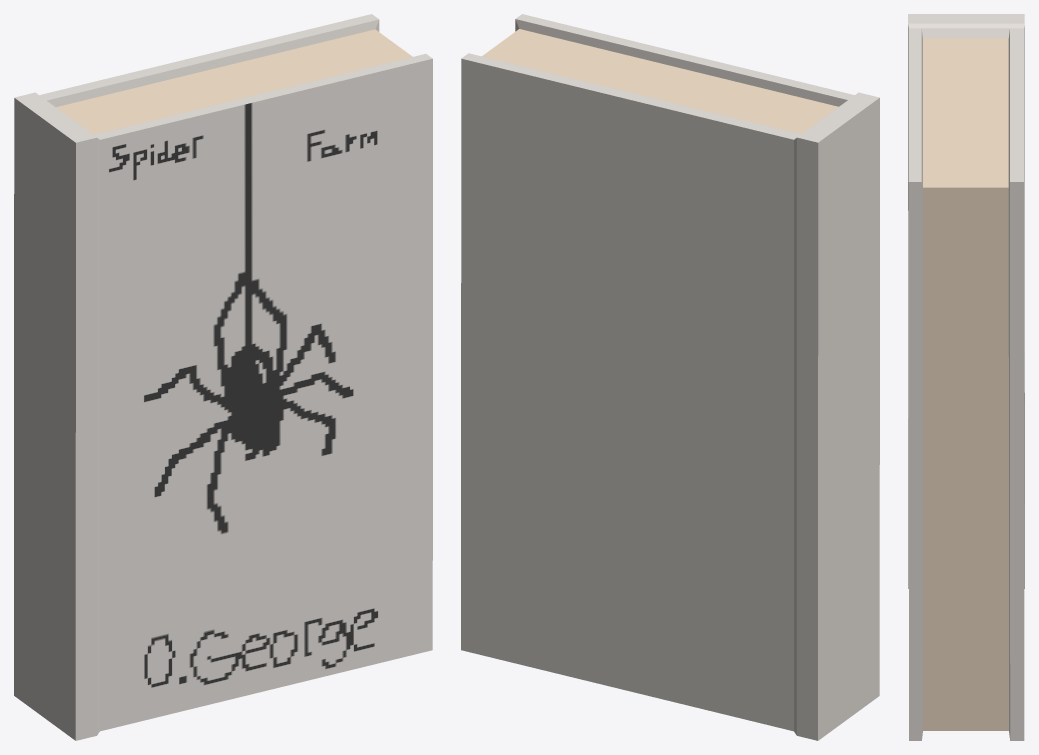
Rendered from spiderfarm.fbx.
The picture shows the model from 3 angles, left to right: view 1: azimuth 30°, elevation 25°; view 2: azimuth 150°, elevation 25°; view 3: azimuth 270°, elevation 25°; orthographic projection. The views are drawn at different scales.
Parts seen in each view (by area): view 1: Cube.015; view 2: Cube.015; view 3: Cube.015.
Boxes of the visible parts, bbox=[...] form: Cube.015: bbox=[14, 14, 432, 740]; Cube.015: bbox=[461, 14, 879, 740]; Cube.015: bbox=[908, 14, 1024, 740].
Size of the model in its own units: 22.87 by 36.59 by 6.85.
